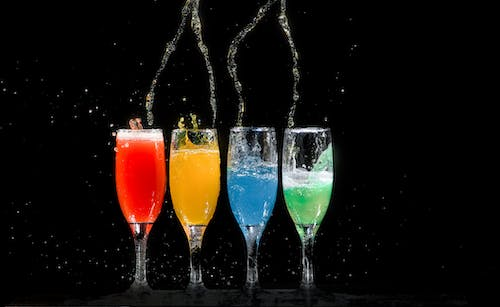alcohol: (168, 127, 222, 307), (226, 126, 279, 307), (113, 127, 166, 307), (281, 127, 334, 307)
